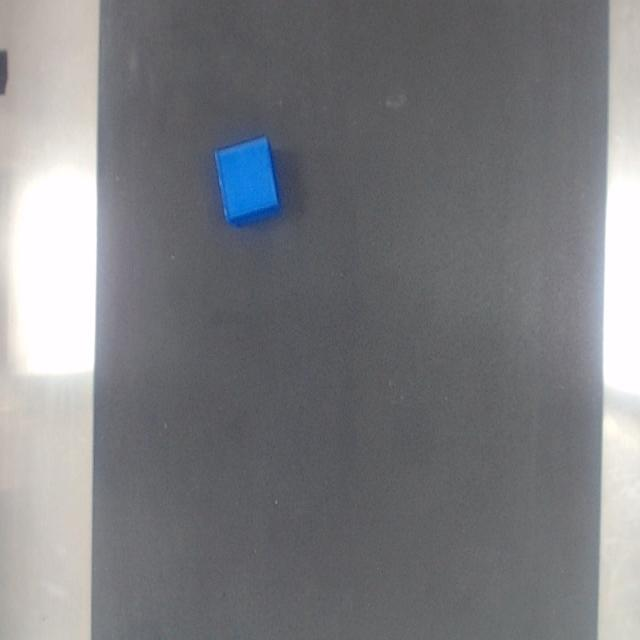Azul: (215, 136, 281, 225)
